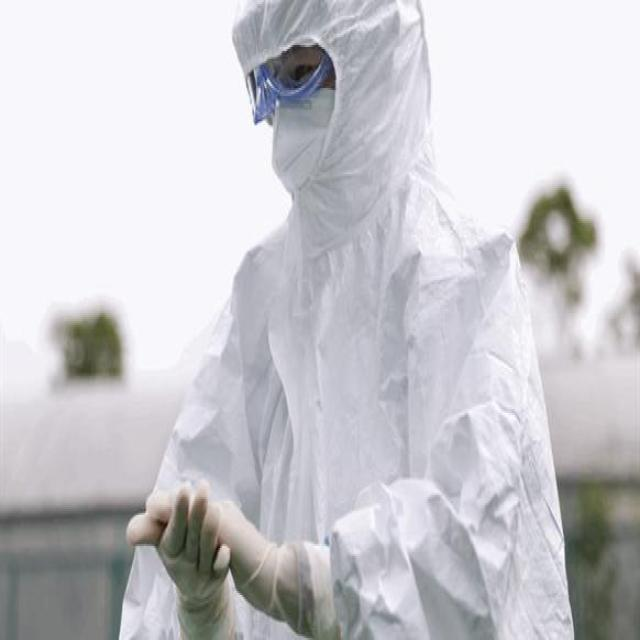Coverall: (118, 0, 574, 638)
Gloves: (145, 476, 281, 609), (126, 480, 232, 638)
Goggles: (245, 47, 331, 125)
Mask: (267, 88, 333, 186)
